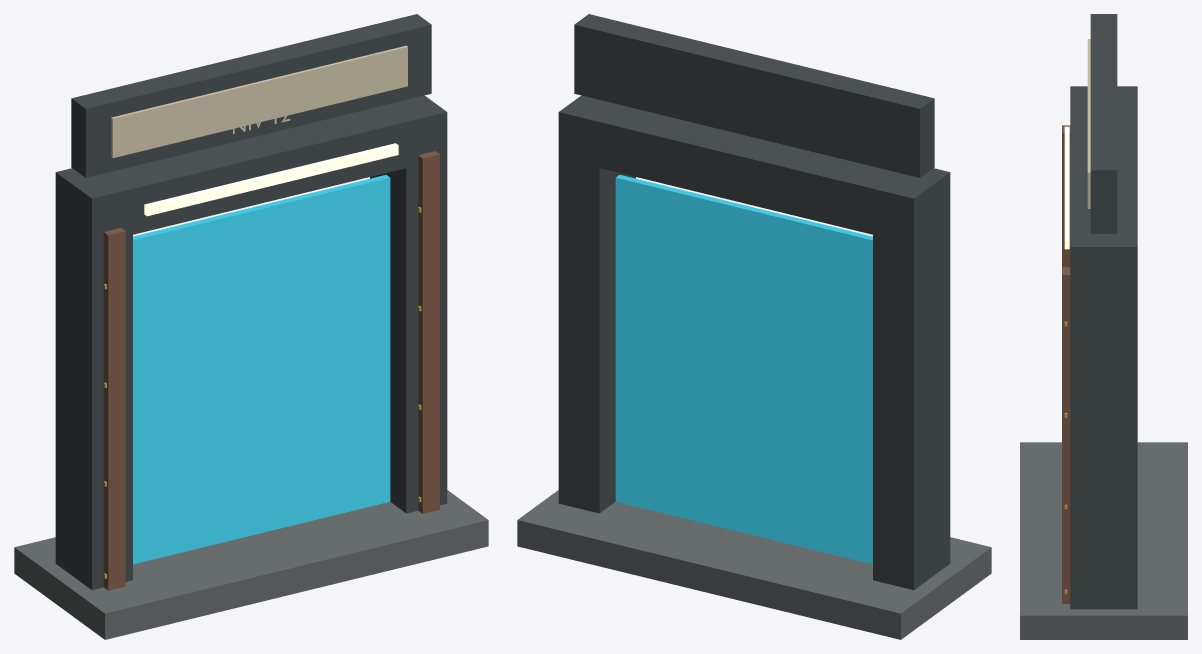
The model's file is Refuge_Portal_02_Laboratoire_Niv12.fbx.
3 views of the same model, side by side, from view 1: azimuth 30°, elevation 25°; view 2: azimuth 150°, elevation 25°; view 3: azimuth 270°, elevation 25° (orthographic). The views are drawn at different scales.
Visible parts, largest first — view 1: Refuge_Portal_02_Laboratoire_Niv12_portal, Refuge_Portal_02_Laboratoire_Niv12_iron, Refuge_Portal_02_Laboratoire_Niv12_concrete_dark, Refuge_Portal_02_Laboratoire_Niv12_rust, Refuge_Portal_02_Laboratoire_Niv12_paint, Refuge_Portal_02_Laboratoire_Niv12_glow, Refuge_Portal_02_Laboratoire_Niv12_label; view 2: Refuge_Portal_02_Laboratoire_Niv12_iron, Refuge_Portal_02_Laboratoire_Niv12_portal, Refuge_Portal_02_Laboratoire_Niv12_concrete_dark; view 3: Refuge_Portal_02_Laboratoire_Niv12_iron, Refuge_Portal_02_Laboratoire_Niv12_concrete_dark, Refuge_Portal_02_Laboratoire_Niv12_rust, Refuge_Portal_02_Laboratoire_Niv12_glow, Refuge_Portal_02_Laboratoire_Niv12_paint.
Part boxes in pixels (x1,y1,x2,y2): Refuge_Portal_02_Laboratoire_Niv12_portal: (133,175,390,564); Refuge_Portal_02_Laboratoire_Niv12_iron: (55,14,447,590); Refuge_Portal_02_Laboratoire_Niv12_concrete_dark: (14,490,488,639); Refuge_Portal_02_Laboratoire_Niv12_rust: (103,151,439,590); Refuge_Portal_02_Laboratoire_Niv12_paint: (111,45,407,158); Refuge_Portal_02_Laboratoire_Niv12_glow: (144,143,398,216); Refuge_Portal_02_Laboratoire_Niv12_label: (159,60,363,132); Refuge_Portal_02_Laboratoire_Niv12_iron: (558,14,950,590); Refuge_Portal_02_Laboratoire_Niv12_portal: (615,175,872,564); Refuge_Portal_02_Laboratoire_Niv12_concrete_dark: (517,490,991,639); Refuge_Portal_02_Laboratoire_Niv12_iron: (1070,14,1137,609); Refuge_Portal_02_Laboratoire_Niv12_concrete_dark: (1020,442,1187,639); Refuge_Portal_02_Laboratoire_Niv12_rust: (1062,125,1070,603); Refuge_Portal_02_Laboratoire_Niv12_glow: (1064,126,1069,249); Refuge_Portal_02_Laboratoire_Niv12_paint: (1087,39,1090,208).
Bounding box in the file's own units: 12.2 × 15.15 × 5.
